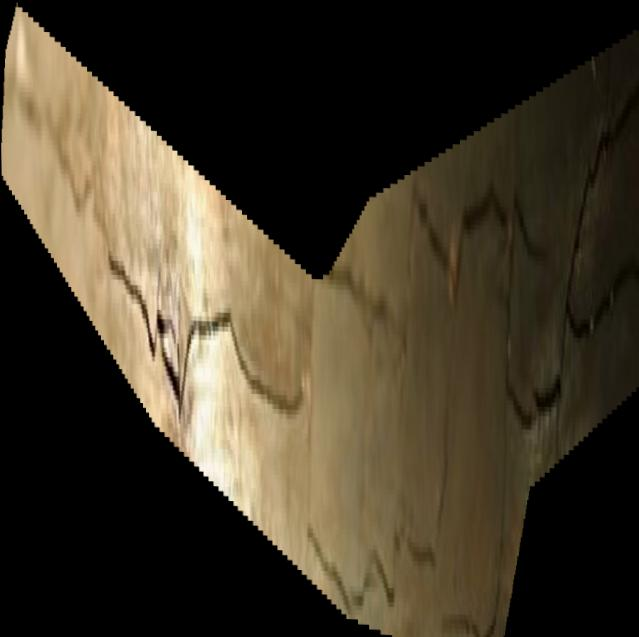Crack: (1, 0, 639, 637)
